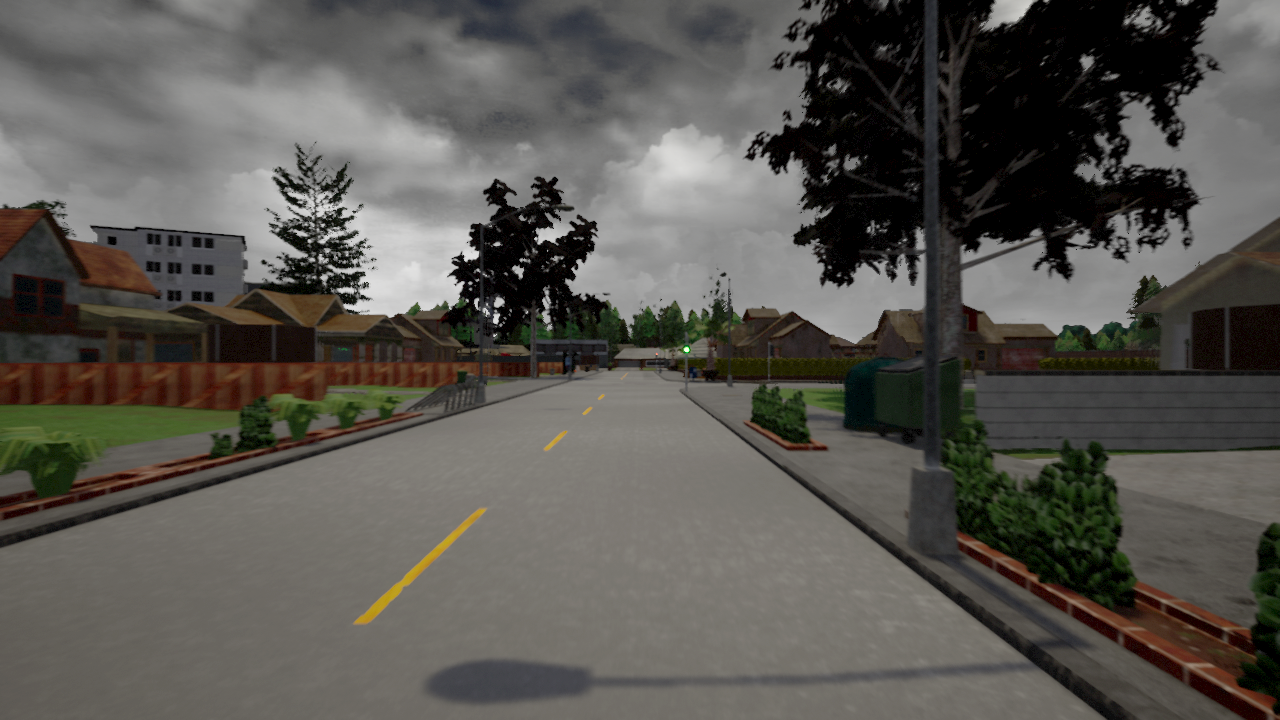green: (682, 335, 691, 354)
